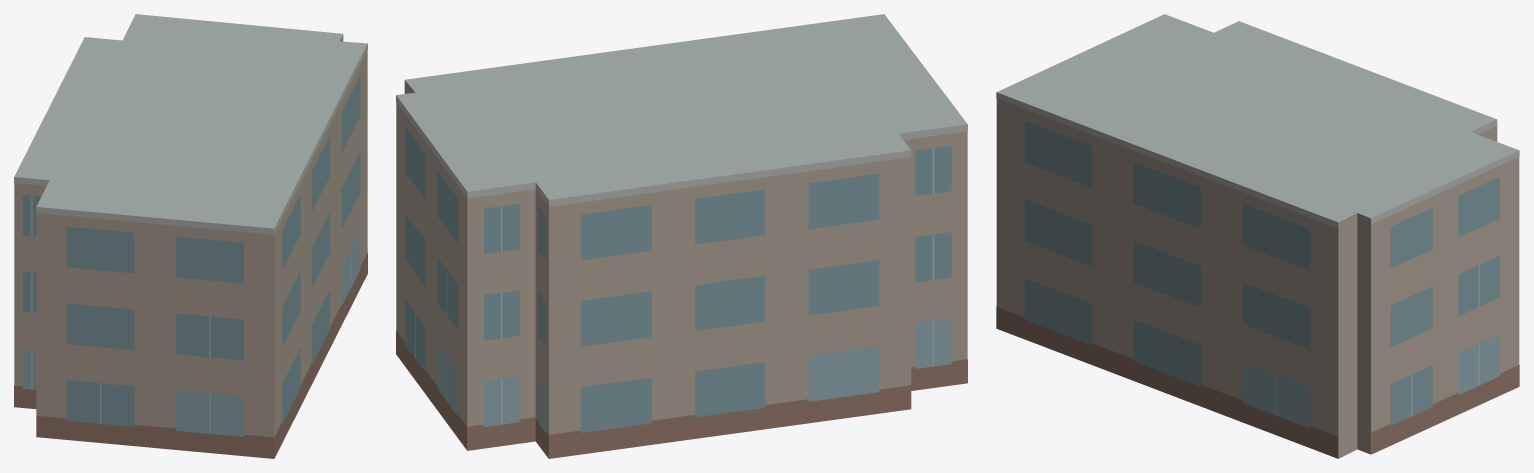
The model's file is survey-upis-32699835.glb.
3 renders of one model, left to right at view 1: azimuth 30°, elevation 25°; view 2: azimuth 150°, elevation 25°; view 3: azimuth 270°, elevation 25°, orthographic. The views are drawn at different scales.
Parts seen in each view (by area): view 1: survey-upis-32699835.tmp; view 2: survey-upis-32699835.tmp; view 3: survey-upis-32699835.tmp.
Part boxes in pixels (box(x1,y1,x2,y2)): survey-upis-32699835.tmp: box(14, 14, 367, 458); survey-upis-32699835.tmp: box(396, 14, 967, 458); survey-upis-32699835.tmp: box(996, 14, 1519, 458).
Size of the model in its own units: 17.32 by 9.15 by 18.35.
